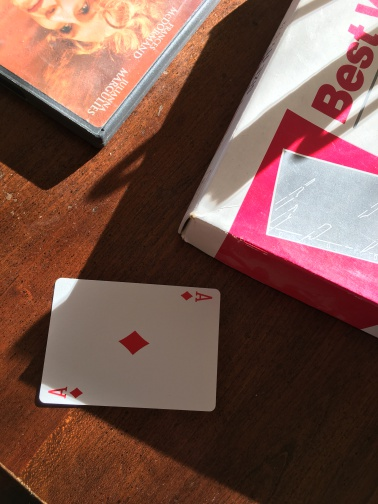ace: (37, 277, 223, 414)
